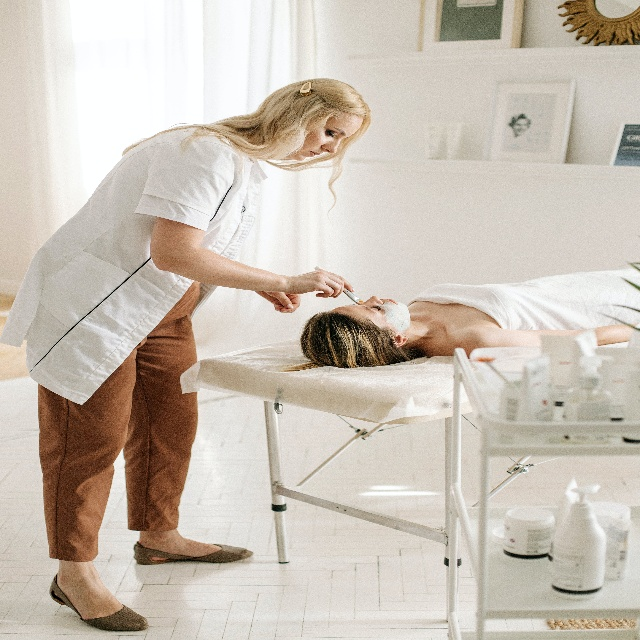Sin_guantes: (291, 268, 355, 298), (257, 287, 300, 315)
